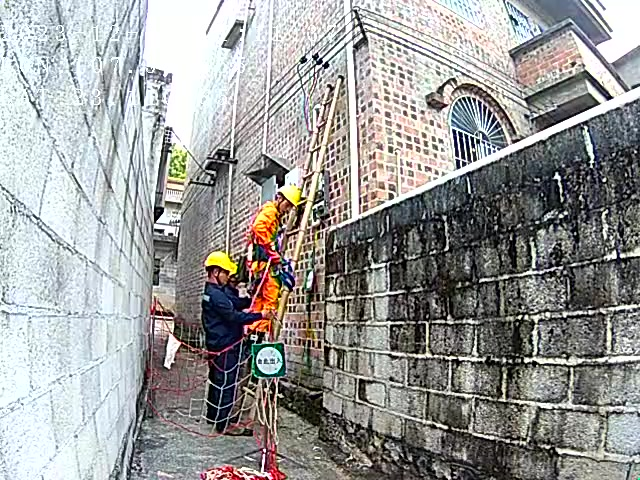downsuit: (205, 349, 239, 425), (247, 263, 280, 334)
halt: (204, 251, 238, 284), (275, 185, 302, 213)
inear: (212, 264, 224, 282), (271, 192, 285, 207)
intosign: (249, 341, 288, 380)
longglove: (260, 310, 274, 322)
person: (197, 249, 262, 425), (245, 184, 303, 332)
upsuit: (202, 284, 251, 347), (249, 203, 286, 261)
